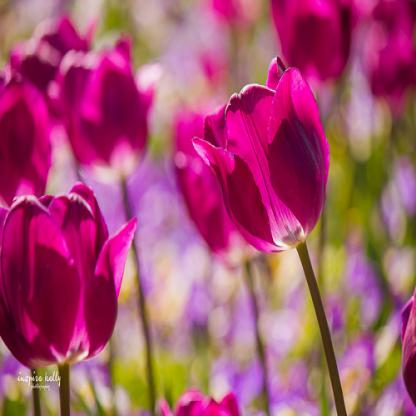TULIP: (12, 24, 345, 367)
